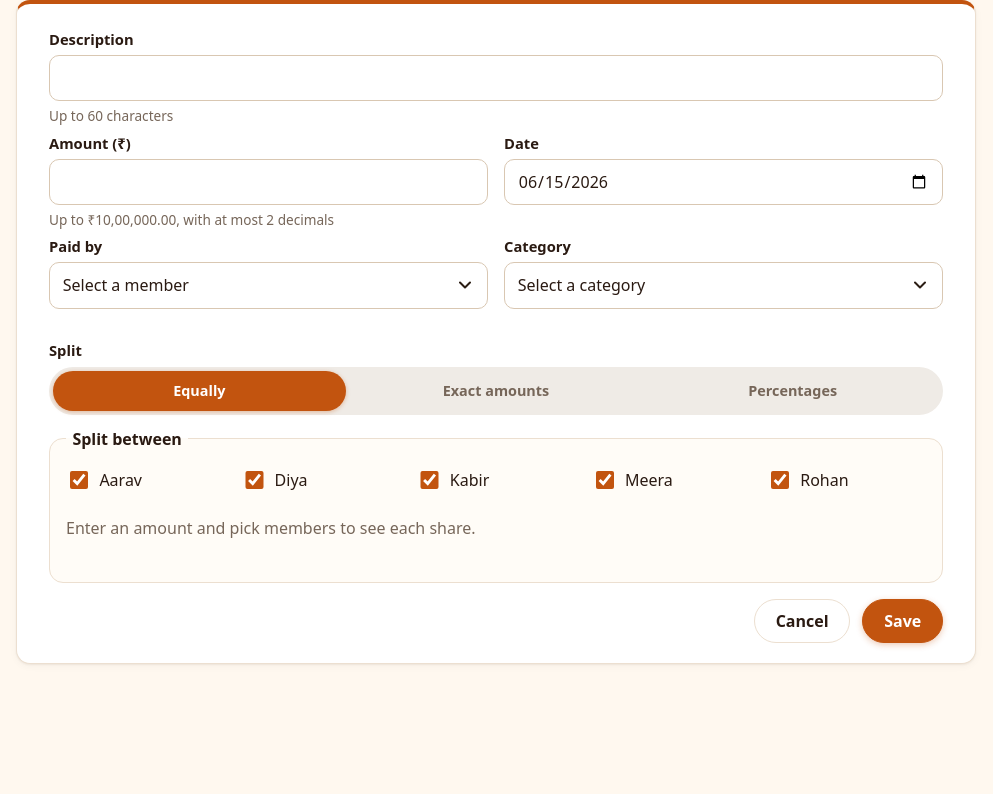
Scenario: ExpenseForm › live breakdown › shows each equal share, with the extra paisa going to one of them
Click the checkbox labelled "Meera" at (605, 480), box [596,471,614,489]
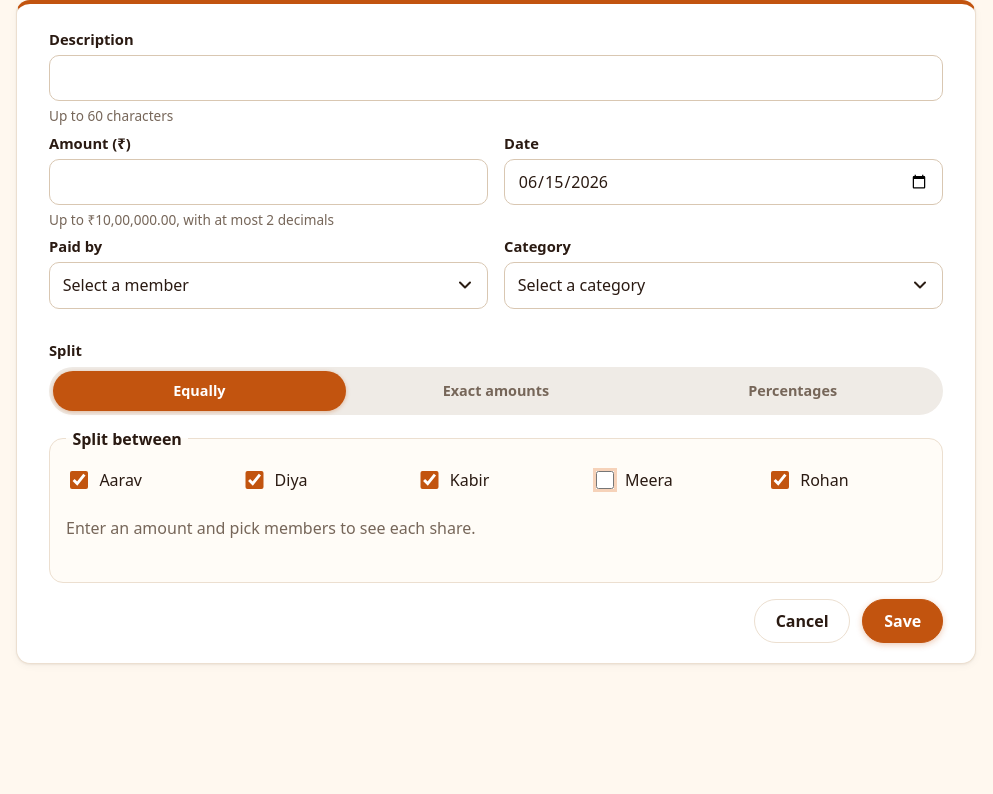
Click the checkbox labelled "Rohan" at (780, 480), box [771,471,789,489]
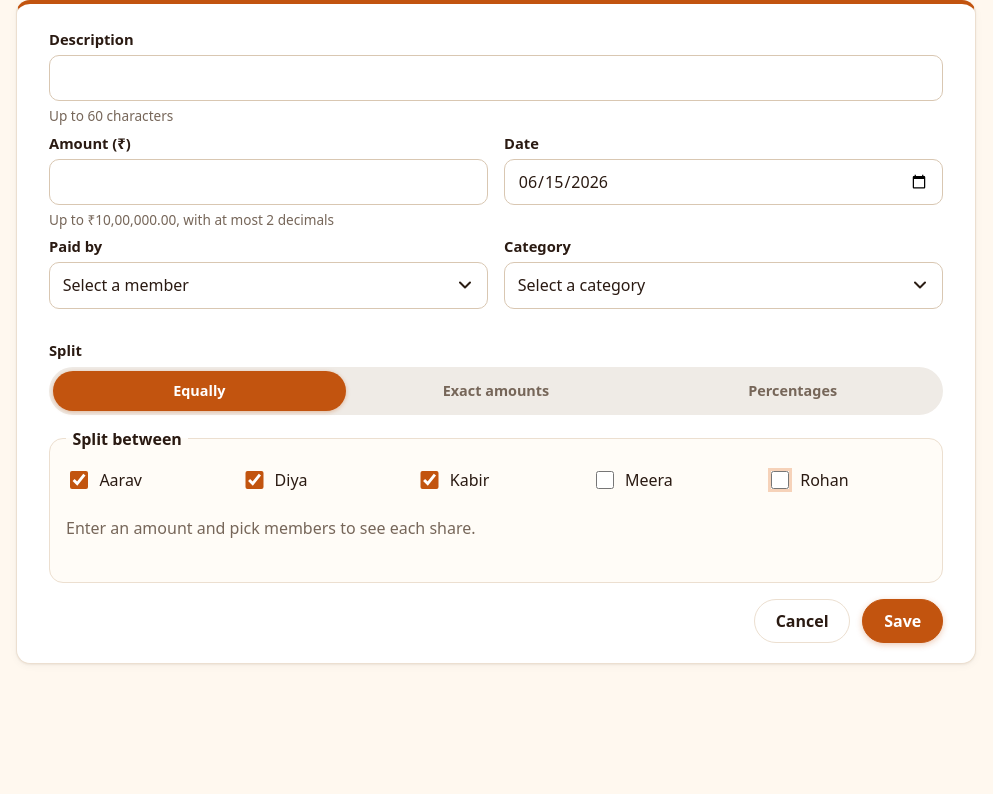
Expected: the text "Enter an amount and pick members to see each share." is shown, [66,517,476,539]
Type "100" into the field labelled "Amount (₹)" at (268, 182), box [49,158,488,205]
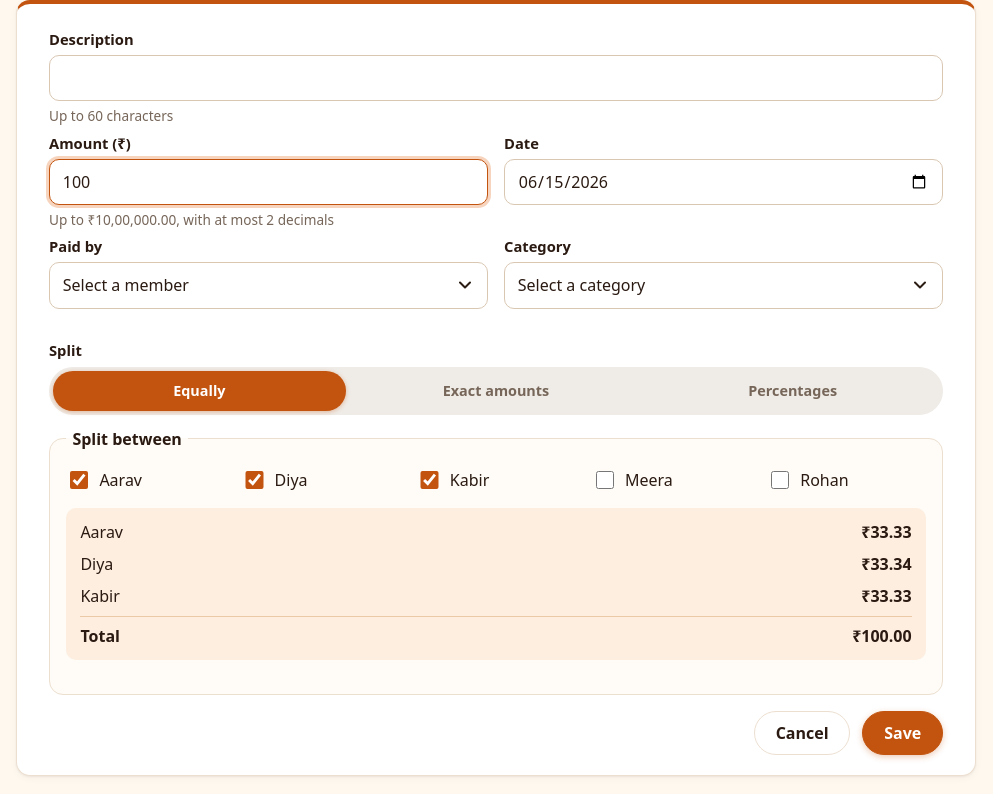
Now the list item "Total ₹100.00" is shown, box [80,616,912,652]
